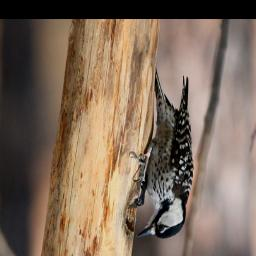Woodpecker: (128, 70, 193, 240)
